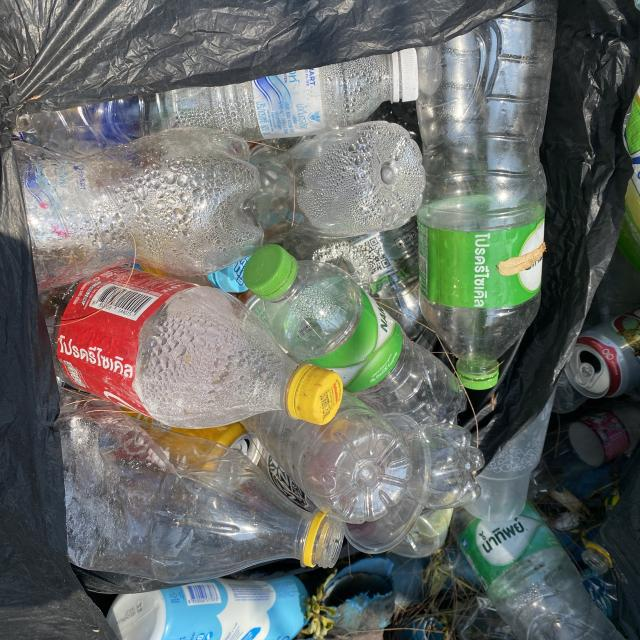HDPE Plastic: (108, 576, 306, 640)
Single-layer Plastic: (0, 0, 524, 640), (481, 0, 640, 459)
